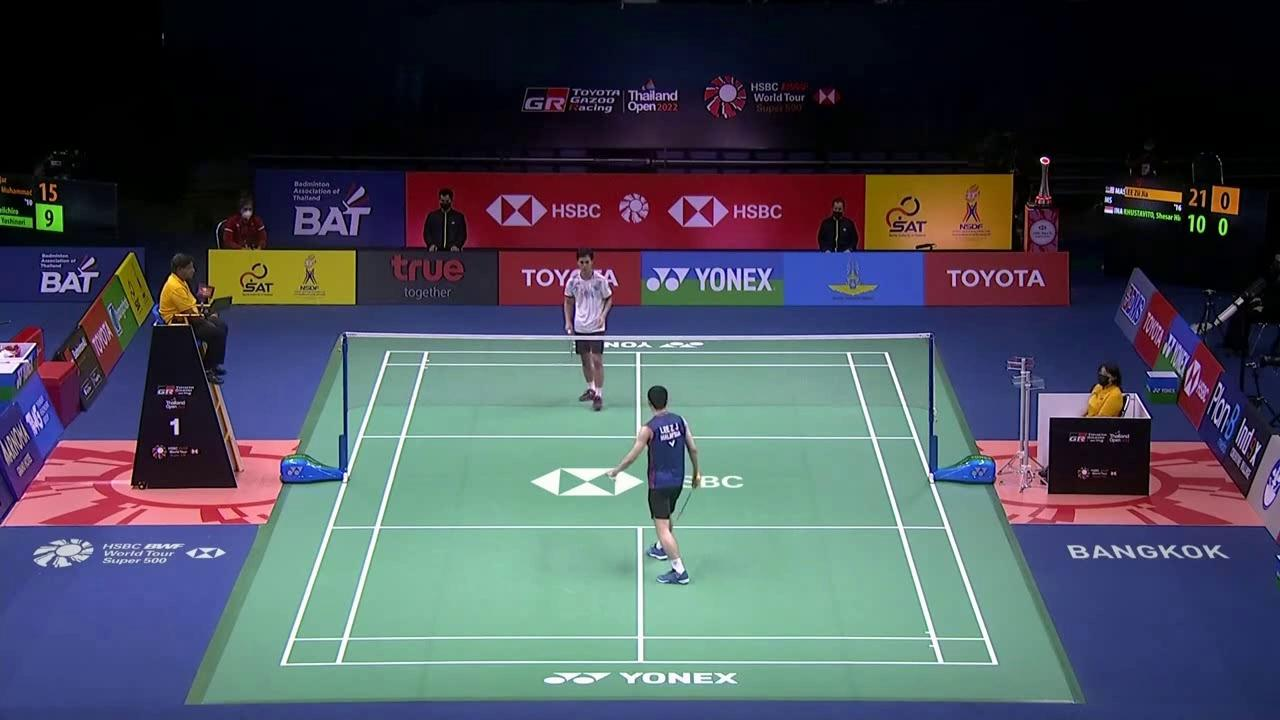racket: (672, 472, 702, 522), (567, 327, 574, 358)
shuttle: (606, 470, 618, 483)
